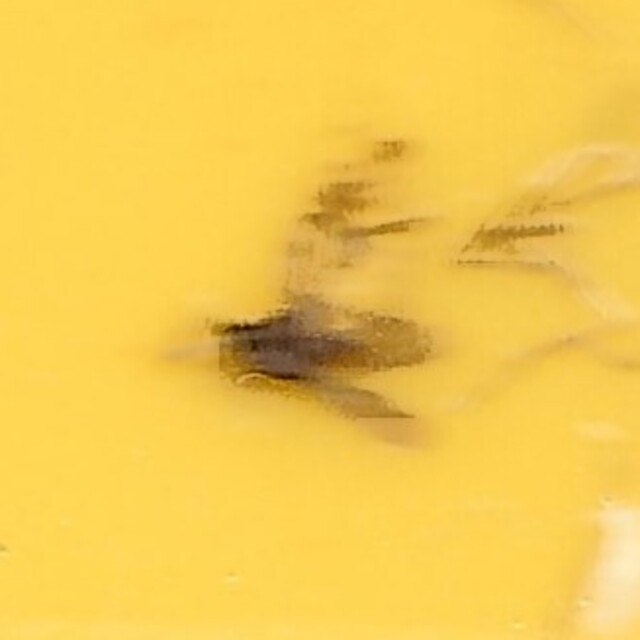Nematocera: (196, 187, 444, 453)
